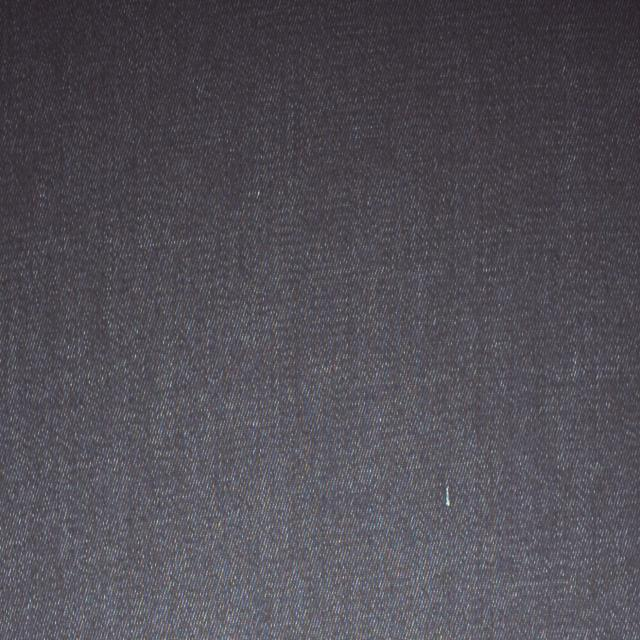Knot: (445, 481, 451, 508)
